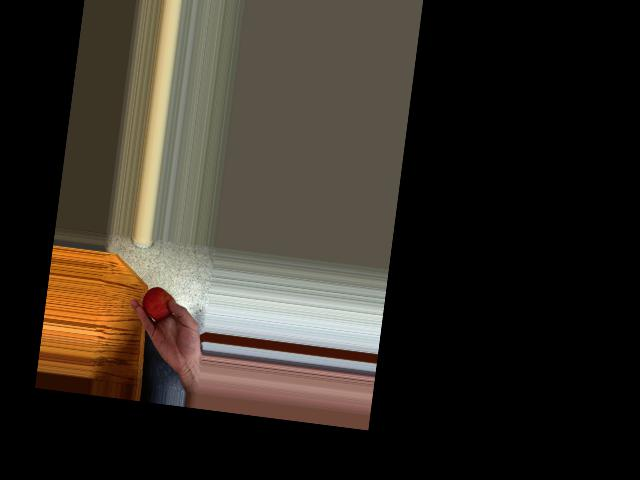apple: (140, 285, 179, 325)
